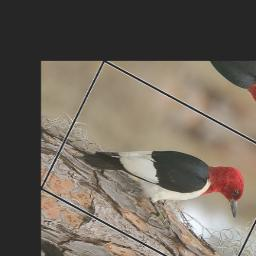Woodpecker: (61, 94, 256, 256)
